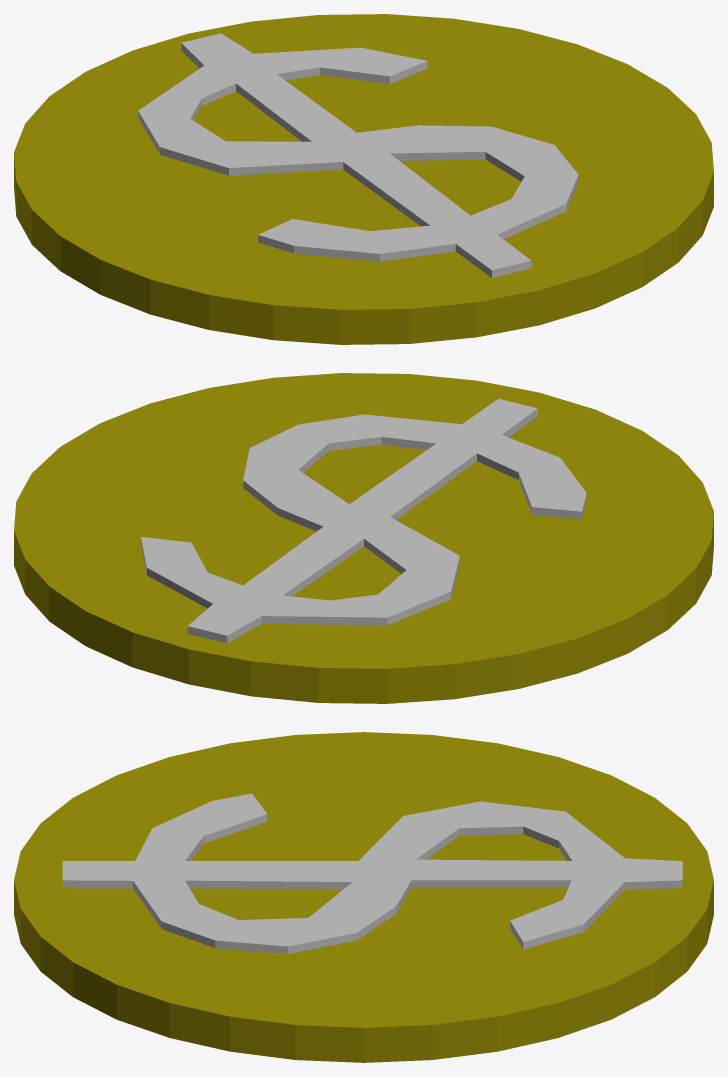
File: Cash ($0.50).glb
3 renders of one model, top to bottom at view 1: azimuth 30°, elevation 25°; view 2: azimuth 150°, elevation 25°; view 3: azimuth 270°, elevation 25°, orthographic.
Visible parts, largest first — view 1: Coin; view 2: Coin; view 3: Coin.
Part boxes in pixels (left/top/right/bottom): Coin: left=14, top=14, right=713, bottom=344; Coin: left=14, top=373, right=713, bottom=703; Coin: left=14, top=732, right=713, bottom=1062.
Size of the model in its own units: 0.1524 by 0.0103 by 0.1524.
